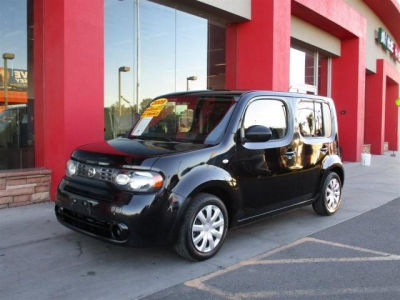front_view: (74, 125, 355, 247)
headlight: (80, 133, 195, 188)
side_glass: (12, 9, 52, 78)
